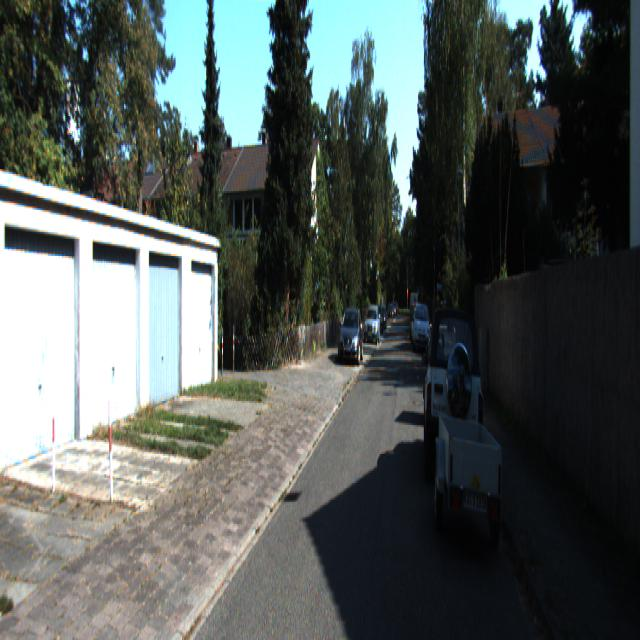Car: (425, 295, 483, 485), (439, 405, 507, 559), (338, 306, 364, 364), (414, 300, 431, 352), (364, 305, 381, 342)
